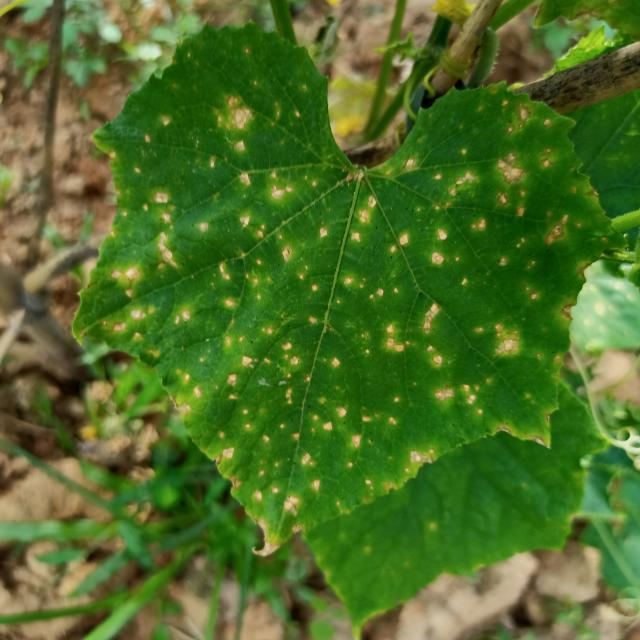disease_cucumber: (162, 301, 536, 543), (82, 88, 347, 360), (343, 96, 590, 362)
